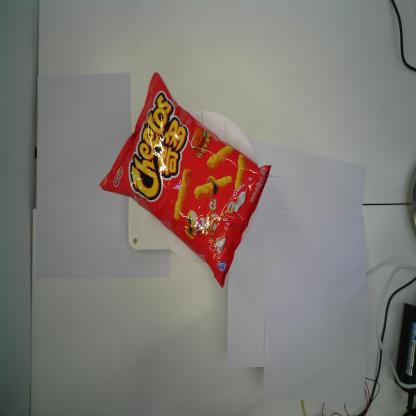Puffed Food: (97, 70, 273, 294)
